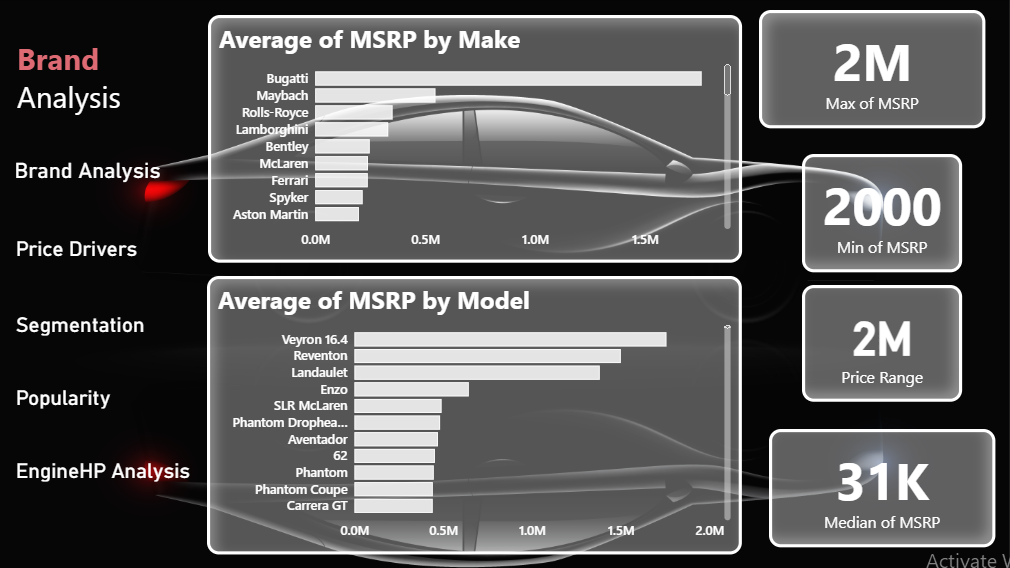

Layout of this report page (visuals, bound fields, positions):
{"tool":"powerbi","page":{"name":"Overview & Market Positioning","canvas":[1280,720],"ordinal":2},"visuals":[{"type":"textbox","box":[0,0,252.5,720.4],"z":0},{"type":"actionButton","title":"Brand Analysis","box":[16.5,199,236,71.4],"z":1000},{"type":"actionButton","title":"Price Drivers","box":[20.6,299.1,164.7,68.6],"z":2000},{"type":"actionButton","title":"Segmentation","box":[20.6,395.2,193.5,63.1],"z":3000},{"type":"card","fields":{"Values":["Sheet1 (2).Price Range"]},"box":[1016.8,360.9,203.1,148.2],"z":4000},{"type":"card","fields":{"Values":["Min(Sheet1 (2).MSRP)"]},"box":[1016.8,194.9,203.1,149.6],"z":5000},{"type":"card","fields":{"Values":["Max(Sheet1 (2).MSRP)"]},"box":[961.9,12.3,286.8,149.6],"z":6000},{"type":"barChart","fields":{"Y":["Avg(Sheet1 (2).MSRP)"],"Category":["Sheet1 (2).Make"]},"box":[263.5,19.2,676.5,314.2],"z":7000},{"type":"textbox","box":[16.9,43.4,216,118.2],"z":8000},{"type":"card","fields":{"Values":["Median(Sheet1 (2).MSRP)"]},"box":[974.3,543.4,286.8,149.6],"z":9000},{"type":"barChart","title":"Average of MSRP by Model","fields":{"Category":["Sheet1 (2).Model"],"Y":["Avg(Sheet1 (2).MSRP)"]},"box":[262.1,349.9,677.9,352.7],"z":10000},{"type":"actionButton","title":"Popularity","box":[20.6,488.5,178.4,54.9],"z":11000},{"type":"actionButton","title":"EngineHP Analysis","box":[20.6,580.4,231.9,57.6],"z":12000}]}

Visuals, with their boxes in screenshot pixels (x1, y1, x2, y2), scaled from the page's 1280x720 canvas onto the 1010x568 screenshot:
textbox: [0, 0, 199, 567]
"Brand Analysis" actionButton: [13, 157, 199, 213]
"Price Drivers" actionButton: [16, 236, 146, 290]
"Segmentation" actionButton: [16, 312, 169, 362]
card - Sheet1 (2).Price Range: [802, 285, 963, 402]
card - Min(Sheet1 (2).MSRP): [802, 154, 963, 272]
card - Max(Sheet1 (2).MSRP): [759, 10, 985, 128]
barChart - Avg(Sheet1 (2).MSRP) x Sheet1 (2).Make: [208, 15, 742, 263]
textbox: [13, 34, 184, 127]
card - Median(Sheet1 (2).MSRP): [769, 429, 995, 547]
"Average of MSRP by Model" barChart: [207, 276, 742, 554]
"Popularity" actionButton: [16, 385, 157, 429]
"EngineHP Analysis" actionButton: [16, 458, 199, 503]
